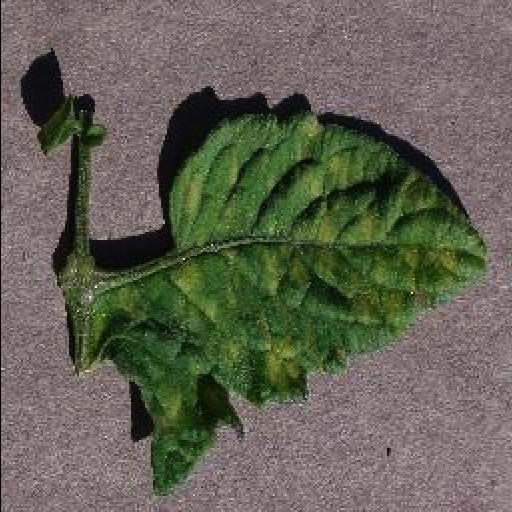disease_tomato: (88, 108, 490, 498)
